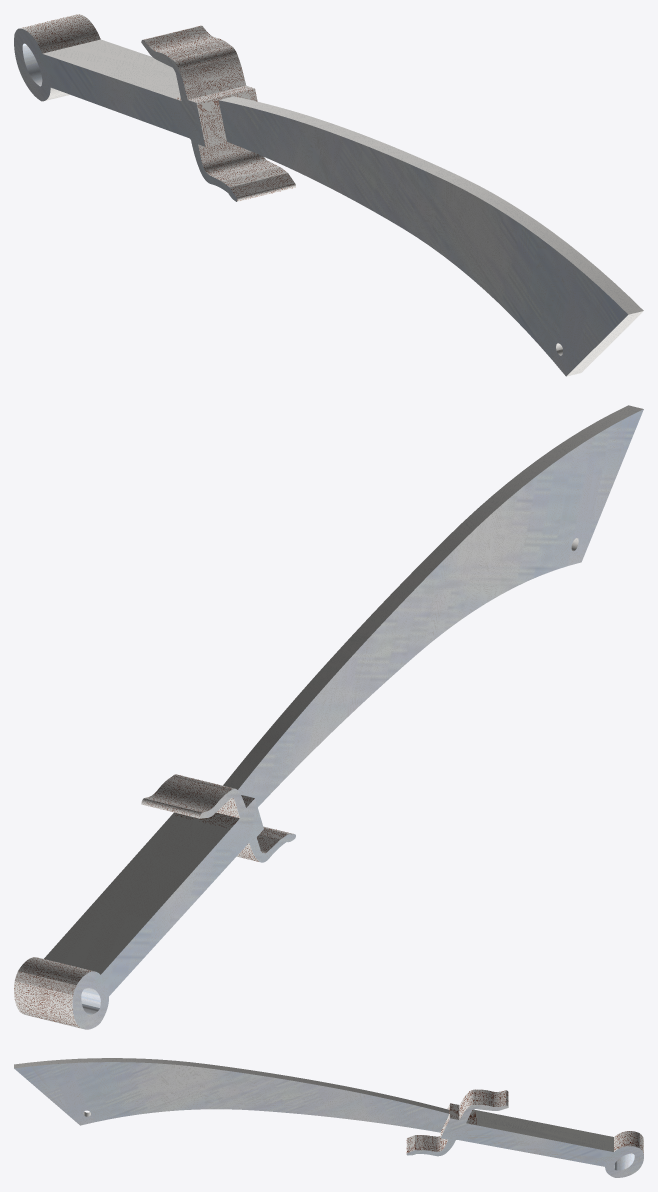
Rendered from model_align.obj.
3 renders of one model, top to bottom at view 1: azimuth 30°, elevation 25°; view 2: azimuth 150°, elevation 25°; view 3: azimuth 270°, elevation 25°, orthographic. The views are drawn at different scales.
Parts seen in each view (by area): view 1: mesh1_mesh1-geometry; view 2: mesh1_mesh1-geometry; view 3: mesh1_mesh1-geometry.
Part boxes in pixels (x1,y1,x2,y2): mesh1_mesh1-geometry: (14,14,643,376); mesh1_mesh1-geometry: (14,405,643,1029); mesh1_mesh1-geometry: (14,1058,643,1177).
Bounding box in the file's own units: 0.0118 × 0.0401 × 0.2075.
